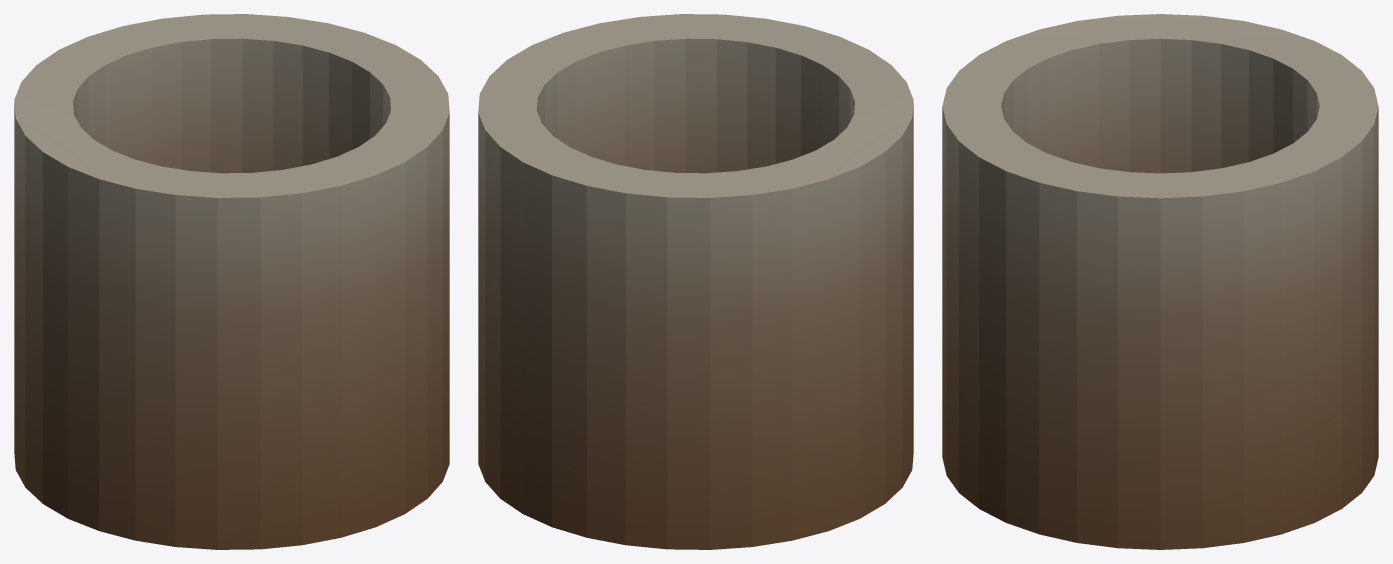
Rendered from Well.fbx.
The picture shows the model from 3 angles, left to right: view 1: azimuth 30°, elevation 25°; view 2: azimuth 150°, elevation 25°; view 3: azimuth 270°, elevation 25°; orthographic projection.
Visible parts, largest first — view 1: Well; view 2: Well; view 3: Well.
Boxes of the visible parts, x1,y1,x2,y2 form: Well: (14, 14, 449, 549); Well: (478, 14, 913, 549); Well: (942, 14, 1378, 549).
Size of the model in its own units: 225 by 200 by 225.
